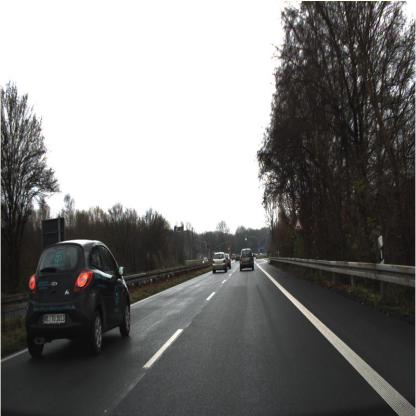danger: (292, 214, 304, 232)
